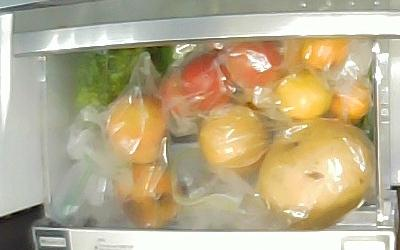peach_vinyl: (106, 97, 164, 164), (116, 164, 177, 227)
pear_vinyl: (257, 120, 369, 225), (199, 104, 268, 167)
tangerine_vinyl: (276, 73, 332, 119), (300, 36, 349, 73), (332, 83, 372, 123), (284, 39, 319, 72)
tomato_vinyl: (223, 41, 284, 90), (181, 54, 232, 110), (161, 72, 194, 121)
